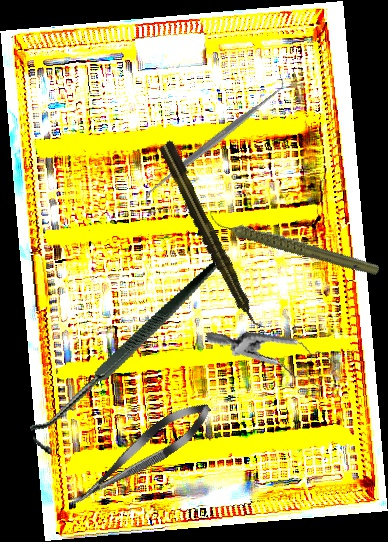Handpiece: (206, 178, 383, 310), (155, 137, 266, 336)
Hook Surgical: (0, 261, 253, 458)
Micro Scissor: (62, 393, 219, 517)
Spatula Surgical: (133, 76, 295, 208)
Speculum: (206, 306, 342, 416)
